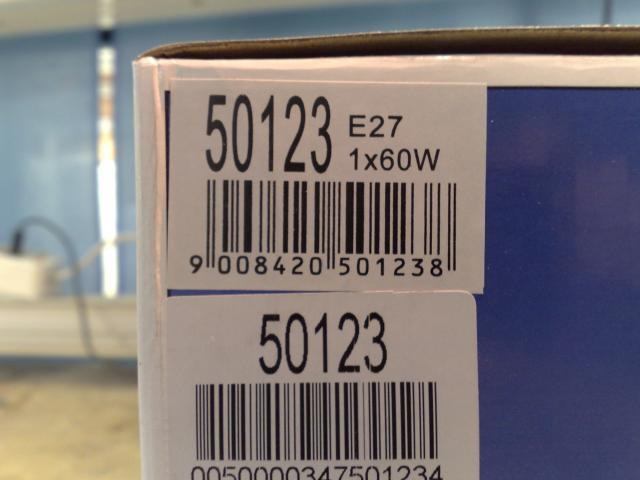Barcode: (177, 169, 471, 287), (177, 375, 455, 480)
